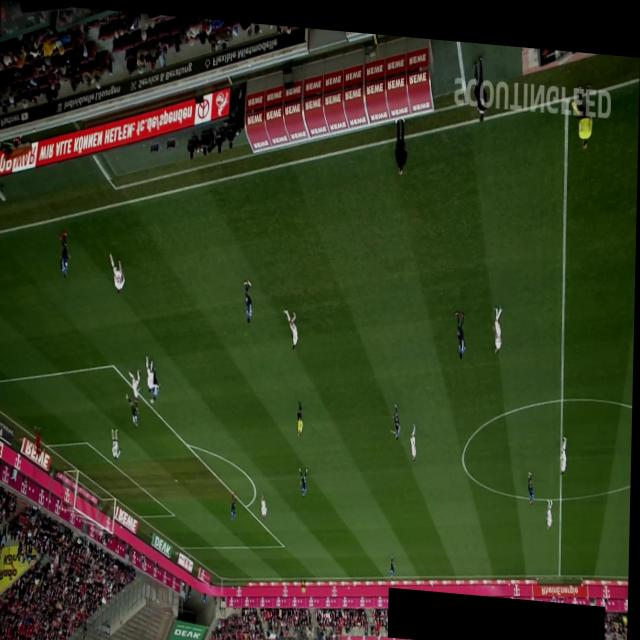goalkeeper: (36, 424, 43, 455)
player: (109, 249, 126, 293), (283, 303, 299, 344), (454, 302, 467, 351), (58, 229, 71, 277), (493, 293, 503, 345), (126, 389, 140, 424), (129, 365, 142, 400), (243, 274, 253, 319), (391, 394, 402, 433), (151, 365, 162, 400), (146, 352, 156, 390), (112, 424, 123, 457), (299, 460, 309, 492), (410, 414, 418, 453), (528, 460, 536, 495), (547, 488, 555, 519), (562, 424, 568, 465), (232, 484, 239, 516), (262, 485, 269, 514), (391, 546, 397, 570)
referee: (575, 71, 592, 138), (298, 395, 304, 431), (302, 569, 308, 590)
